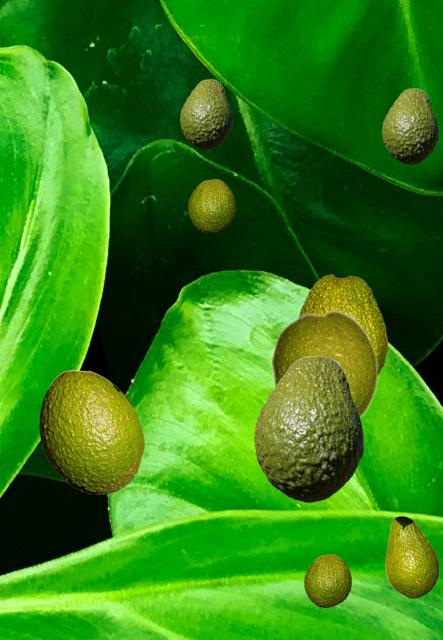avocado: (254, 355, 362, 501), (39, 370, 143, 493), (270, 309, 378, 419), (298, 274, 386, 374), (385, 516, 438, 597), (382, 88, 437, 163), (180, 79, 231, 148), (304, 554, 350, 606), (188, 179, 234, 231)
